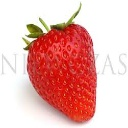strawberry: (26, 14, 98, 122)
